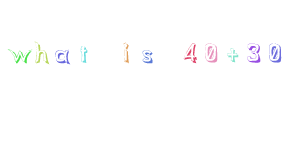+: (225, 41, 243, 71)
0: (201, 37, 223, 73), (267, 39, 287, 68)
3: (245, 39, 264, 67)
4: (177, 37, 200, 72)
a: (53, 42, 73, 68)
h: (33, 42, 52, 66)
i: (118, 40, 136, 71)
s: (138, 40, 159, 72)
t: (75, 42, 97, 70)
w: (4, 42, 34, 68)
